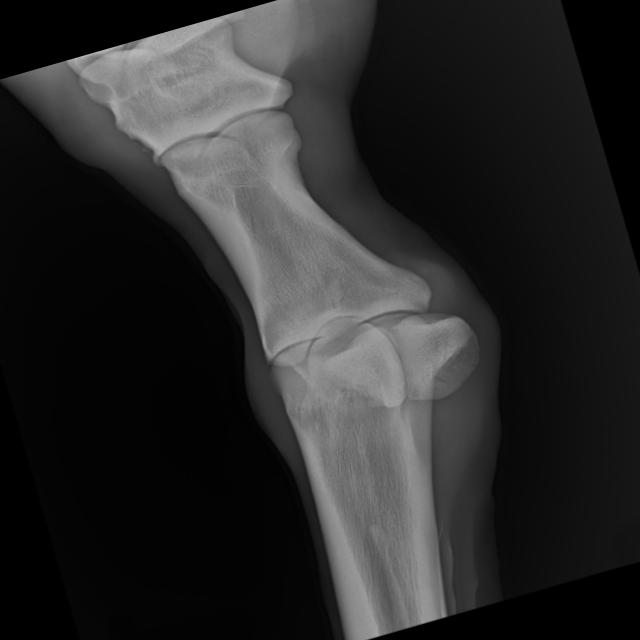joint-ht8A: (186, 191, 527, 486)
